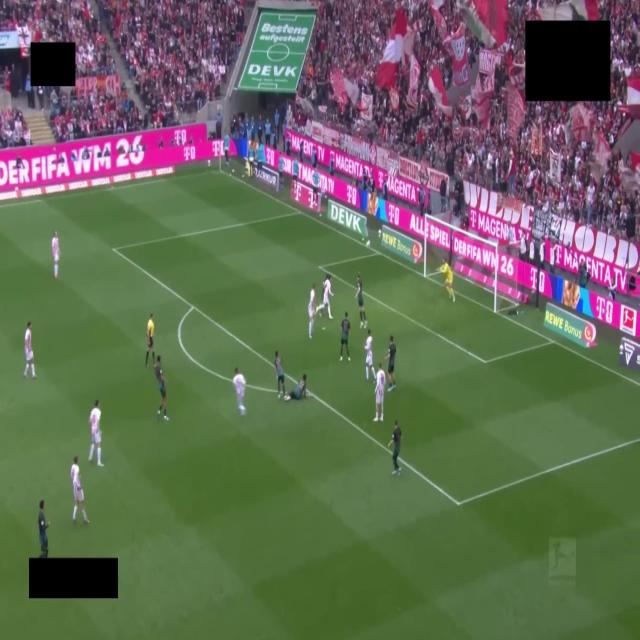player: (71, 456, 88, 524), (89, 400, 103, 466), (154, 356, 168, 420), (388, 421, 401, 475), (374, 363, 386, 421), (24, 321, 36, 379), (318, 274, 333, 319), (232, 368, 245, 415), (440, 259, 454, 302), (39, 500, 49, 558), (284, 374, 306, 400), (356, 273, 366, 328), (274, 351, 285, 398), (365, 330, 375, 381), (386, 336, 395, 391), (340, 312, 350, 361), (308, 284, 316, 338), (52, 232, 59, 278)
referee: (146, 313, 154, 366)
